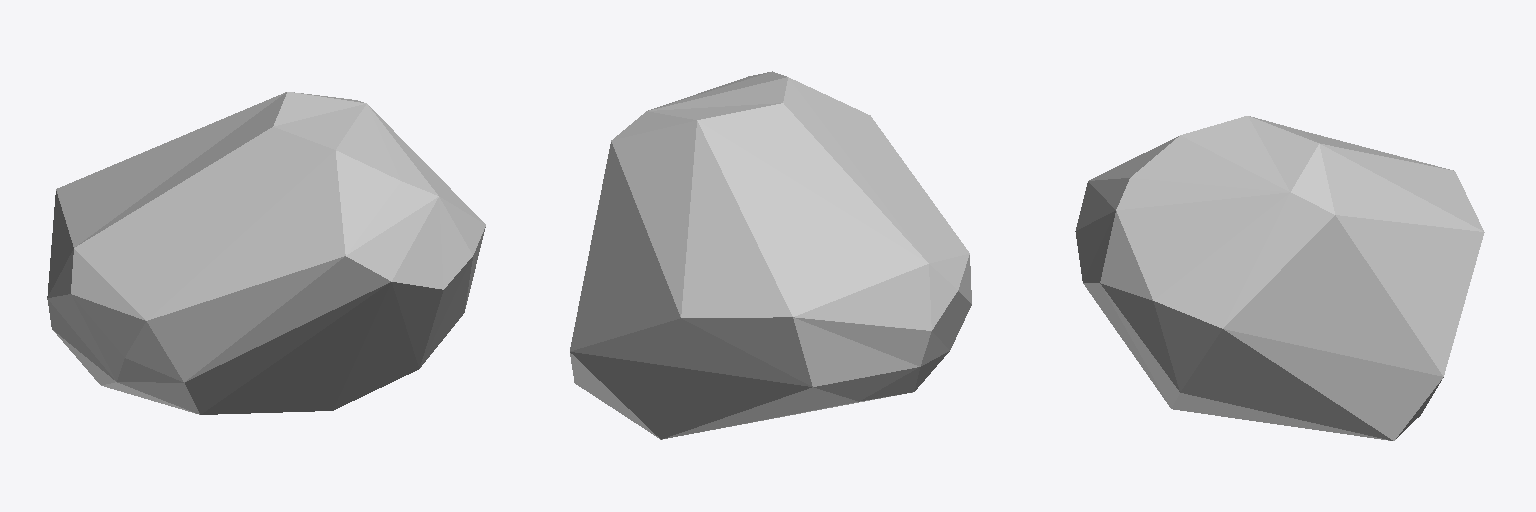
File: Stone_3.obj
3 views of the same model, side by side, from view 1: azimuth 30°, elevation 25°; view 2: azimuth 150°, elevation 25°; view 3: azimuth 270°, elevation 25° (orthographic).
Visible parts, largest first — view 1: Stone_3; view 2: Stone_3; view 3: Stone_3.
Part boxes in pixels (x1,y1,x2,y2): Stone_3: (47,92,485,414); Stone_3: (570,71,971,439); Stone_3: (1075,116,1484,440).
Size of the model in its own units: 0.9879 by 0.7087 by 0.9325.